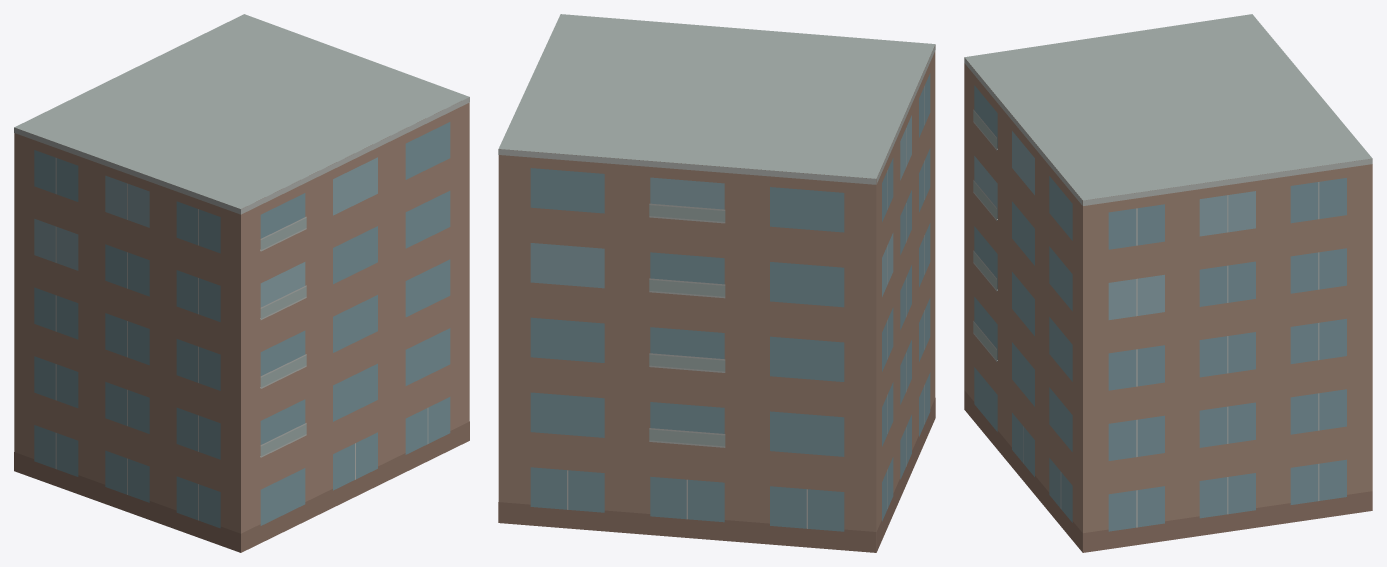
File: survey-upis-32699251.glb
3 renders of one model, left to right at view 1: azimuth 30°, elevation 25°; view 2: azimuth 150°, elevation 25°; view 3: azimuth 270°, elevation 25°, orthographic. The views are drawn at different scales.
Parts seen in each view (by area): view 1: survey-upis-32699251.tmp; view 2: survey-upis-32699251.tmp; view 3: survey-upis-32699251.tmp.
Boxes of the visible parts, bbox=[...] form: survey-upis-32699251.tmp: bbox=[14, 14, 469, 552]; survey-upis-32699251.tmp: bbox=[498, 14, 935, 552]; survey-upis-32699251.tmp: bbox=[964, 14, 1372, 552].
Bounding box in the file's own units: 17.33 × 15.25 × 16.02.
